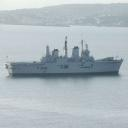Portanaves: (4, 33, 126, 77)
